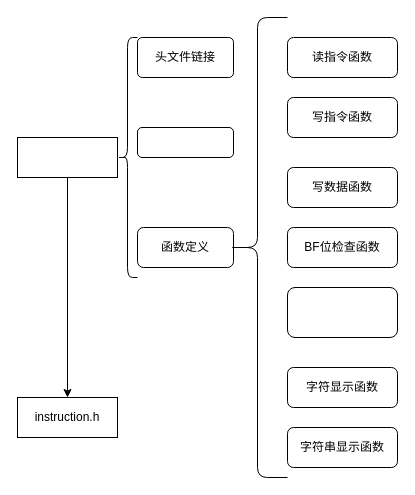
This 415x495 diagram has some shape labels left out. The shapes that lost their labels are listed below. From the top down, each one's box as (x1, y1, x2, y2) in pixels, then its label:
(16, 136, 118, 178): instruction.c
(136, 126, 234, 158): sbit
(286, 286, 398, 338): CGRAM字模自定义函数
